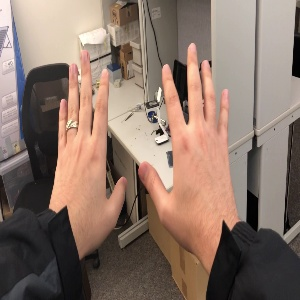hand: (138, 43, 239, 229), (51, 51, 128, 233)
